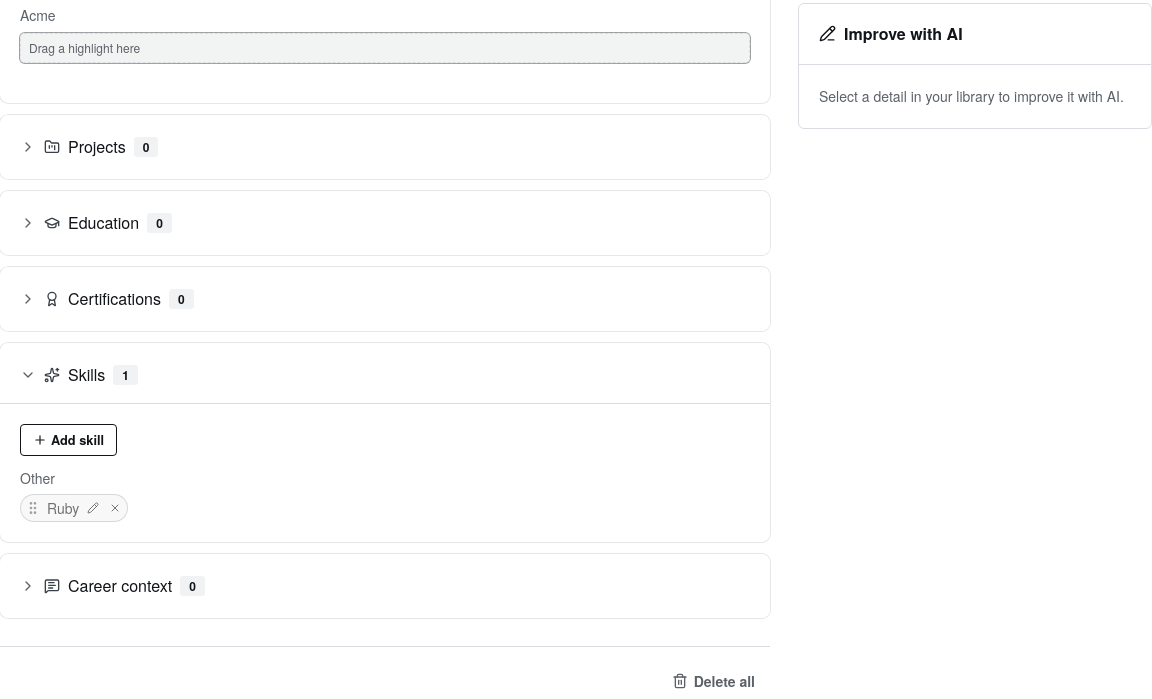
it: deletes a skill after confirming
(page scrolled)
Click the button named "Delete Ruby" at [115, 508], box left=107, top=500, right=123, bottom=516
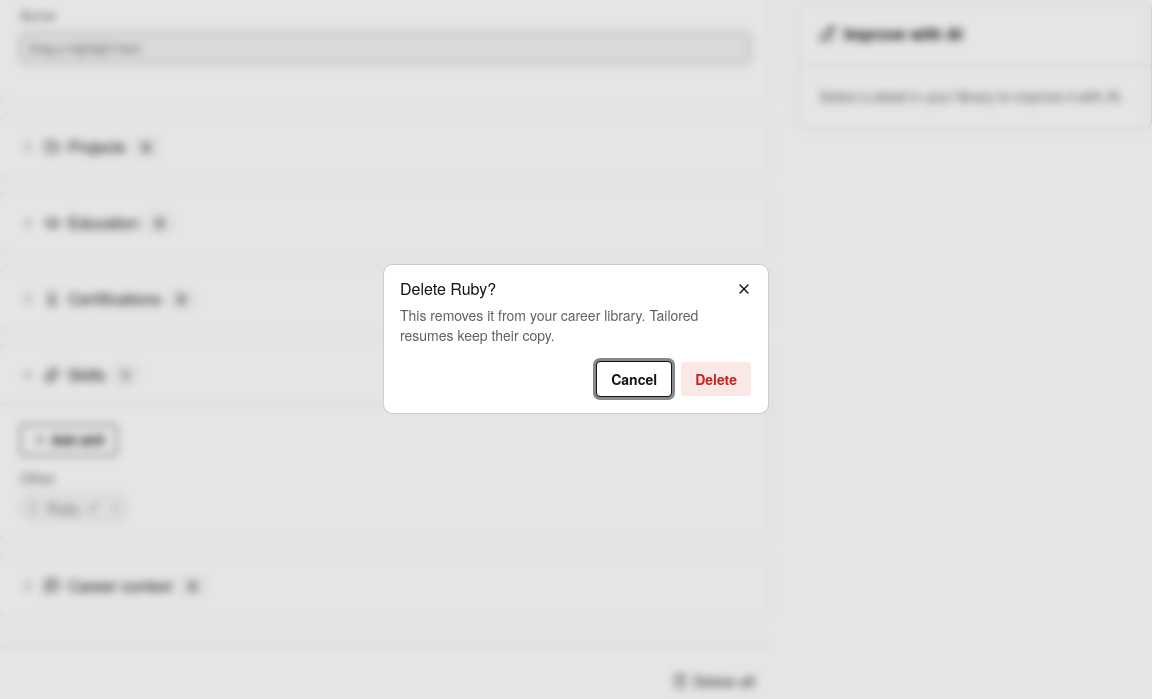
Click the button "Delete" at [716, 379], box left=680, top=361, right=752, bottom=397
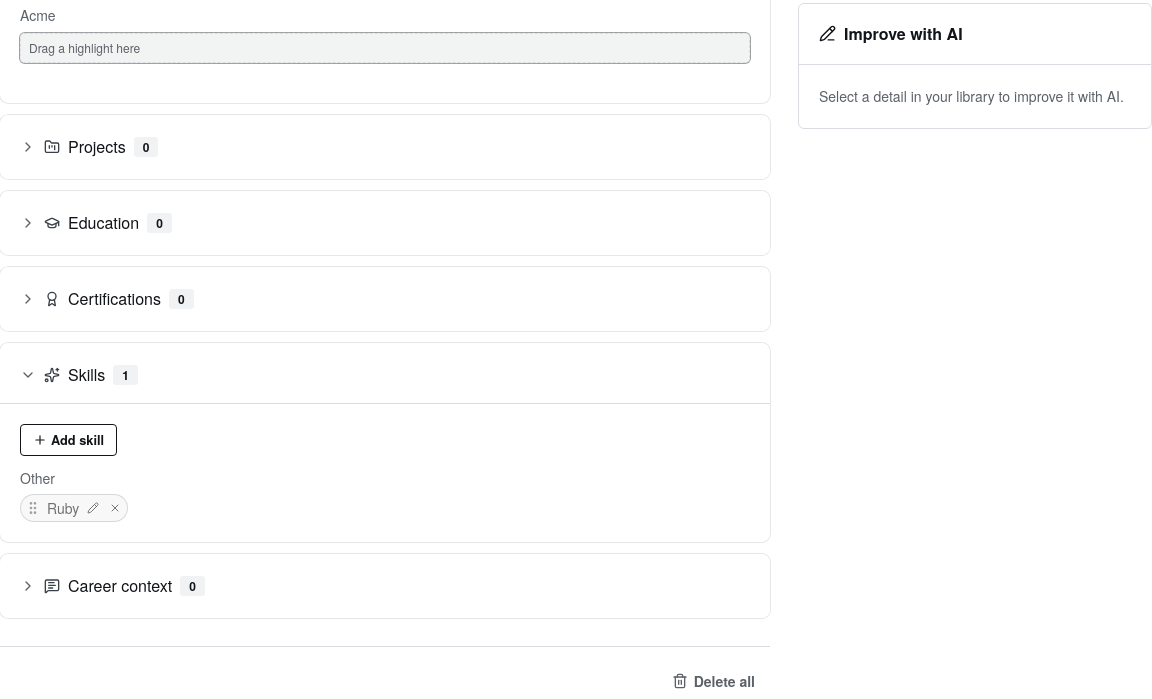
Expected: the dialog is gone
